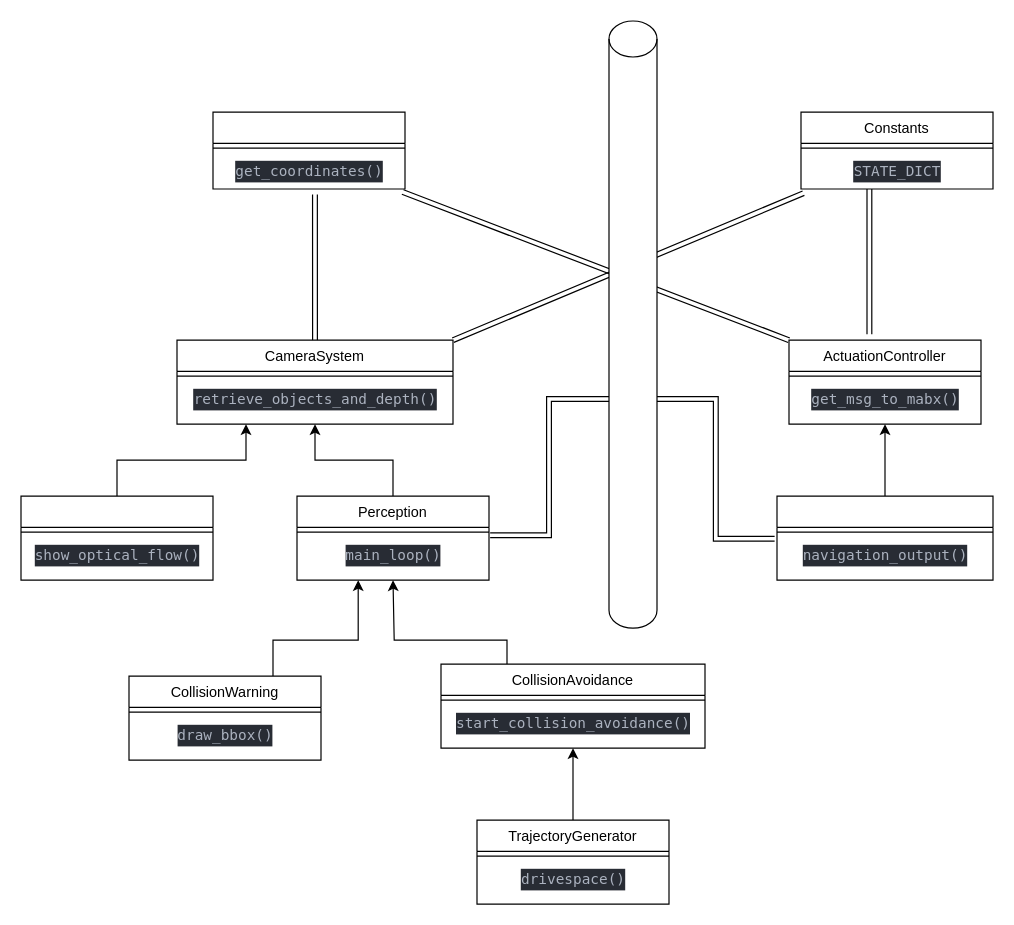
Some shapes in this 1014 by 925 pixel diagram are drawn without their labels. The shapes that lost their labels are listed below. From the top down, each one's box as (x1, y1, x2, y2) in pixels, then its label:
(212, 111, 405, 189): Utilities
(608, 20, 657, 628): ROS
(20, 495, 213, 580): OpticalFlowPerception
(776, 495, 993, 580): AutonomousDrivingController
